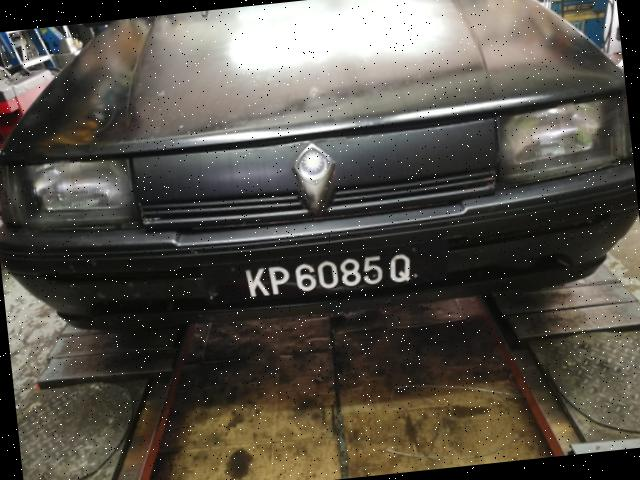License_Plate: (237, 245, 424, 306)
car: (1, 1, 640, 351)
